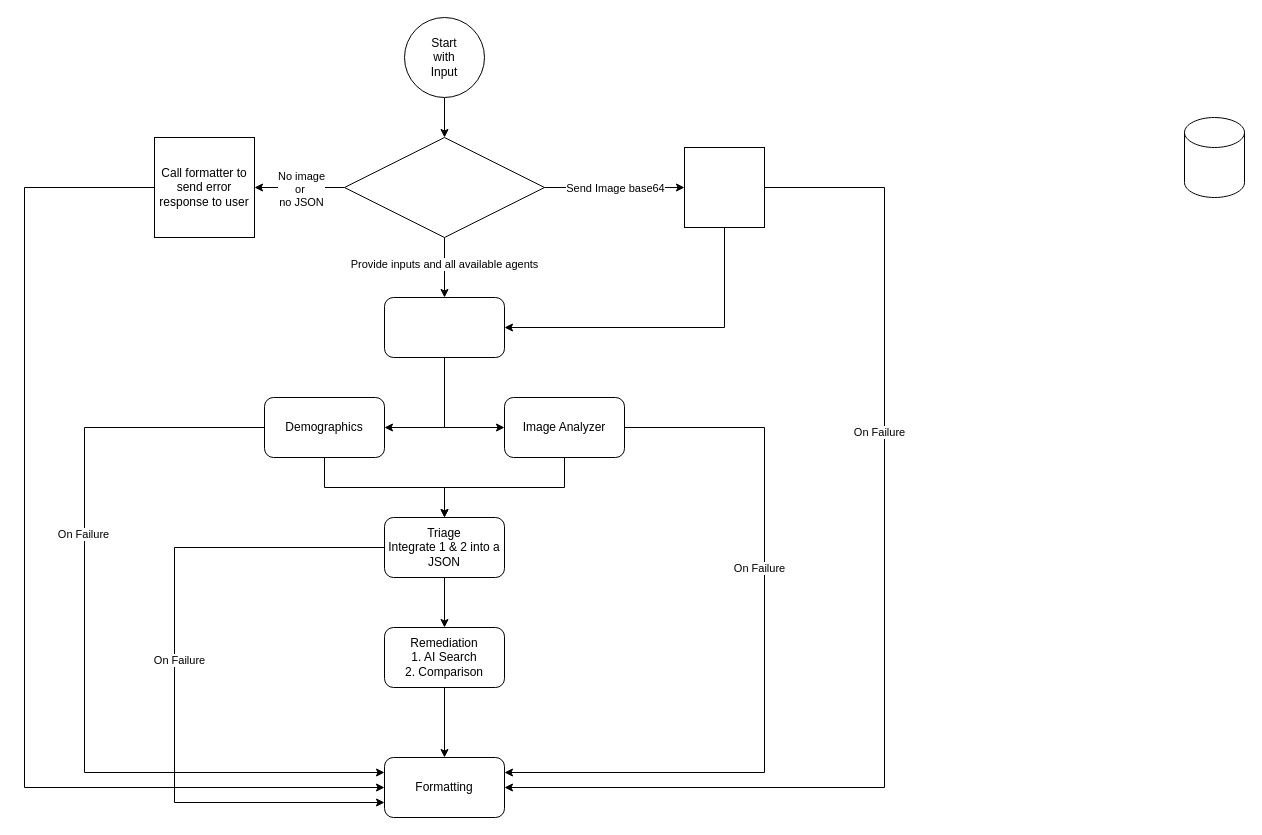
Some shapes in this 1262 by 835 pixel diagram are drawn without their labels. Here are the shapes that lost their labels. From the top down, the box of each, then its label:
(344, 136, 544, 238): Validate JSON and image base64
(684, 146, 764, 228): Image processor
(384, 296, 504, 358): Call Planner (LLM call using ChatAgent from MAF)
